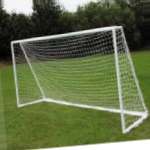goals: (9, 22, 148, 135)
